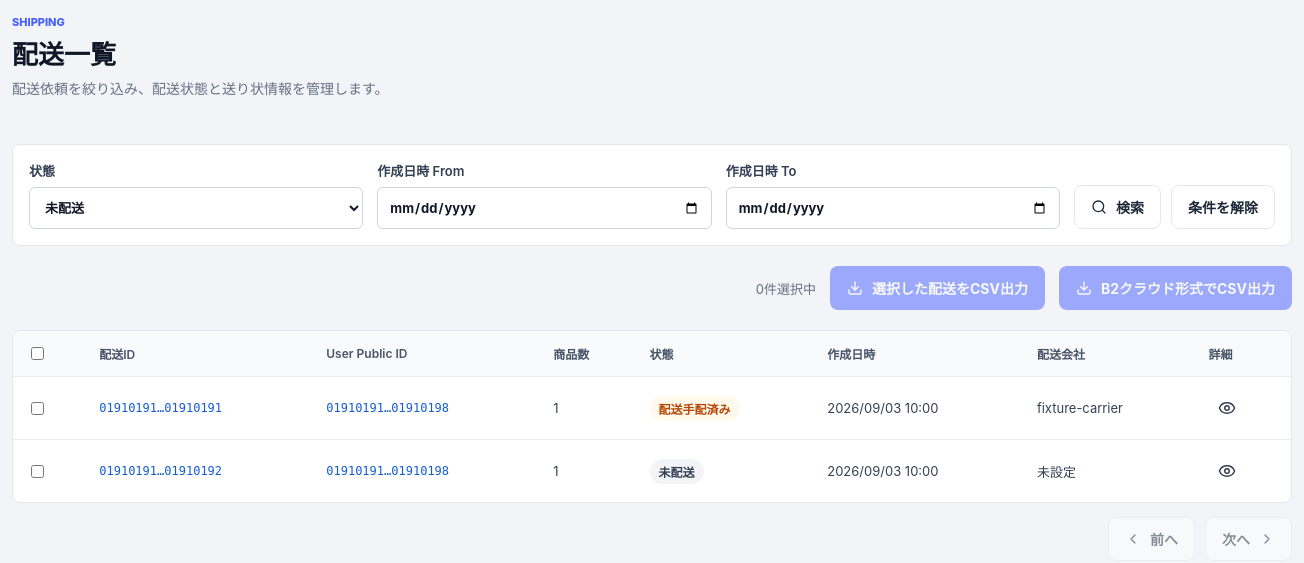
Scenario: Admin Shipping management › places B2 immediately after the existing CSV button and disables it without selection
Check: the button "B2クラウド形式でCSV出力" is disabled, box top-left (1059, 266), bottom-right (1292, 310)
Click the checkbox named "配送 01910191-0191-7191-8191-019101910191 を選択" at point(38, 408), box top-left (31, 402), bottom-right (44, 415)
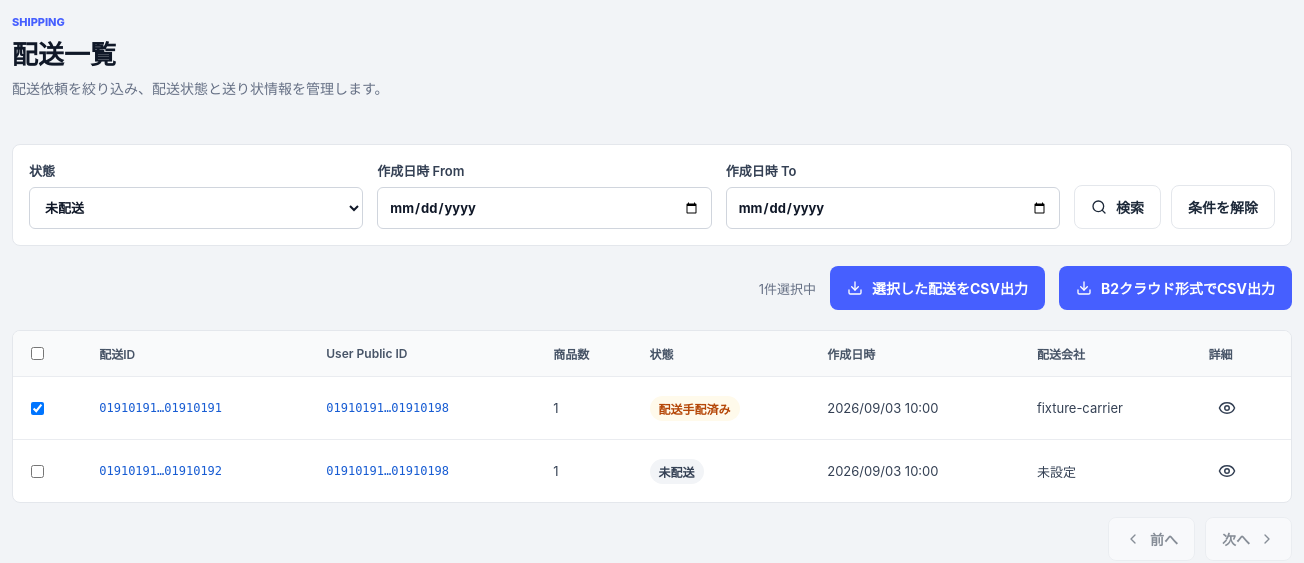
Check: the button "B2クラウド形式でCSV出力" is enabled, box top-left (1059, 266), bottom-right (1292, 310)
